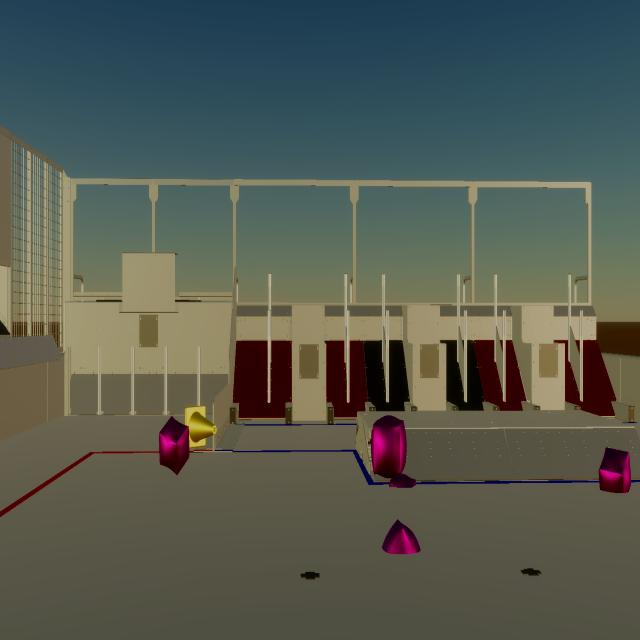frc_cone: (185, 405, 217, 449)
frc_cube: (371, 416, 407, 478), (159, 416, 189, 475), (599, 447, 631, 493), (382, 519, 421, 554), (389, 473, 416, 488)
